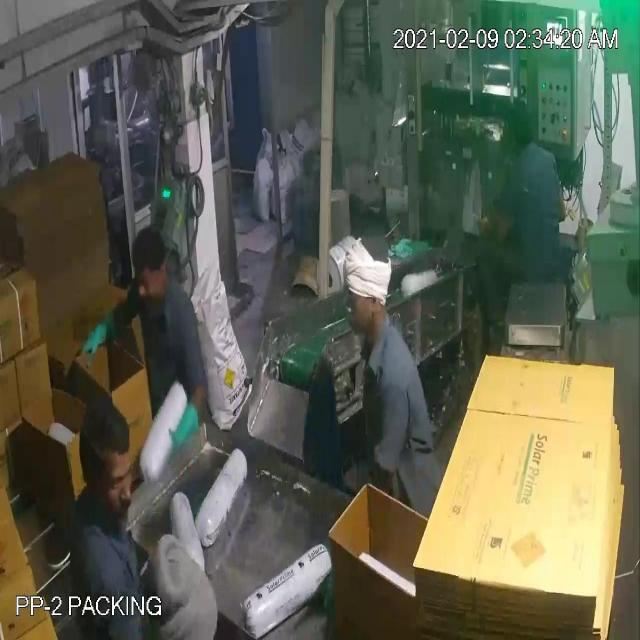Gloves: (76, 70, 180, 432)
